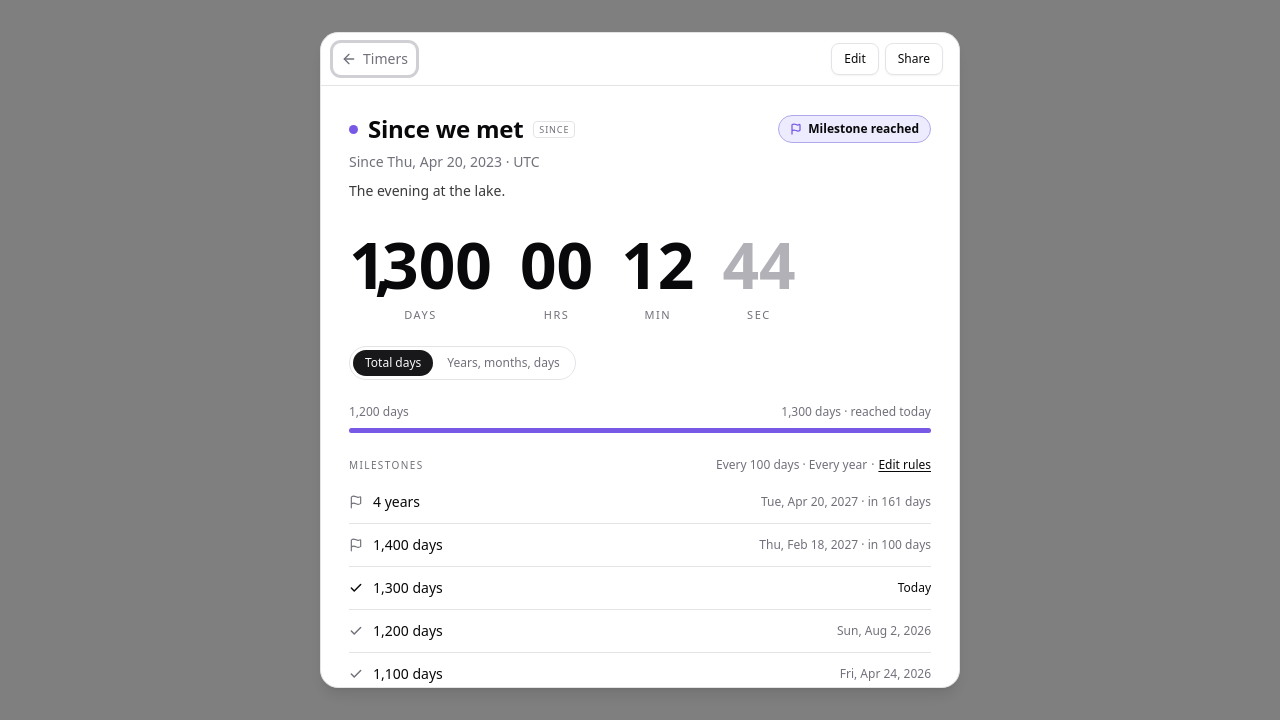
Test: TimerDetailDialog › switches the count format and keeps it on this device
Later steps or results of the test are not shown.
Expected: the button with aria-label "1,300 days. Show years, months and days" is shown, [349,233,796,326]
What coordinates should you click on to do the following:
click the button "Years, months, days"
I would click on:
 (504, 363)
Its box is [435,350,572,376].
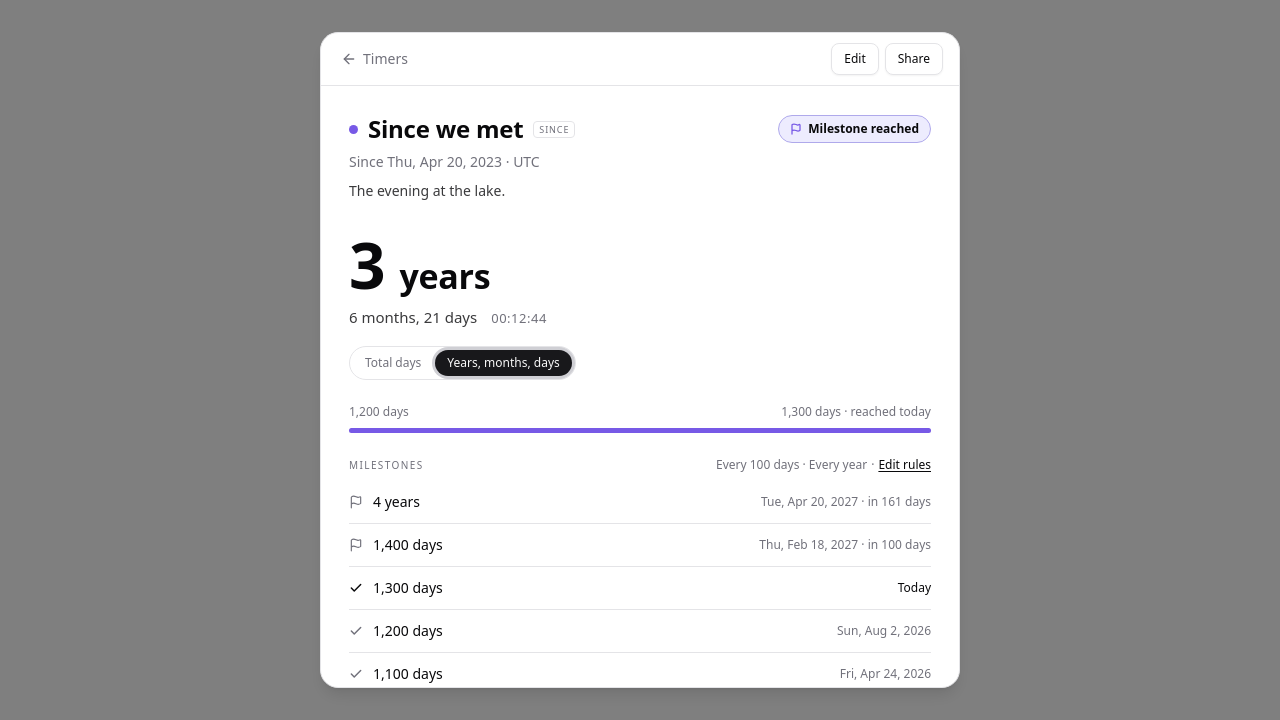
Expected: the element with test id "timer-detail-calendar" reads "3 years 6 months, 21 days 00:12:44", [349,233,547,326]
